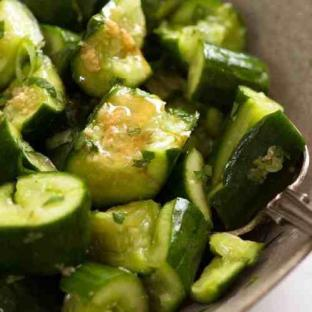Cucumber: (67, 85, 197, 207), (210, 110, 305, 229), (0, 173, 90, 274), (72, 0, 151, 97), (211, 87, 283, 186), (145, 198, 208, 311), (4, 54, 66, 141), (191, 233, 265, 303), (89, 201, 159, 274), (188, 42, 269, 104), (61, 263, 148, 311), (170, 0, 246, 51), (164, 148, 212, 228), (0, 115, 55, 183), (166, 98, 214, 159), (0, 276, 63, 311), (155, 22, 200, 69), (41, 25, 81, 76), (143, 264, 186, 311), (210, 233, 265, 265), (145, 65, 185, 101), (47, 128, 79, 170), (170, 0, 222, 25), (205, 107, 224, 138)
